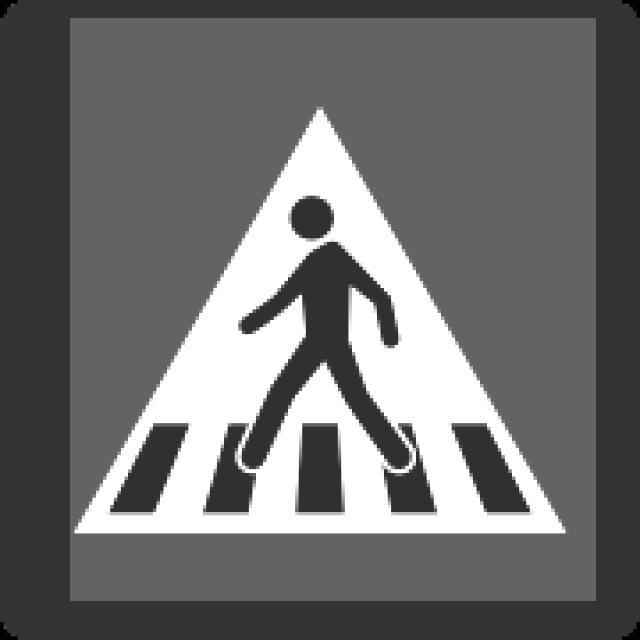pedestrian crossing: (69, 90, 574, 545)
